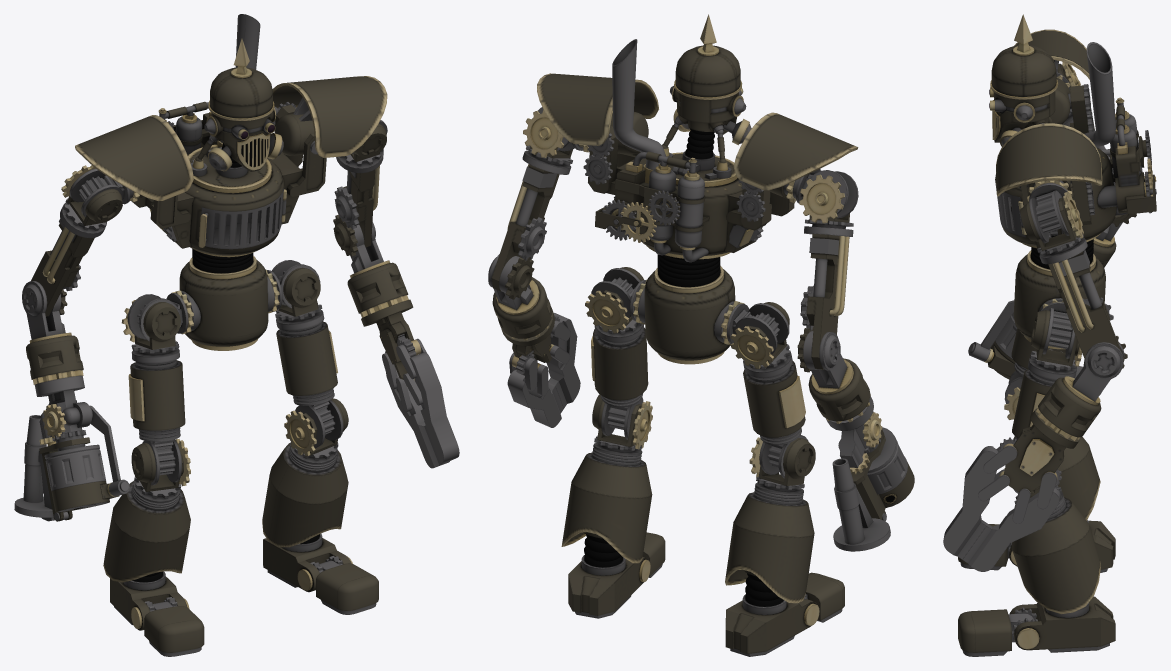
Rendered from steampunk_robot.glb.
3 views of the same model, side by side, from view 1: azimuth 30°, elevation 25°; view 2: azimuth 150°, elevation 25°; view 3: azimuth 270°, elevation 25° (orthographic). The views are drawn at different scales.
Parts seen in each view (by area): view 1: Body, LegR, Object_158, LegL; view 2: Body, LegL, LegR, Object_158; view 3: Body, LegR, Object_158, LegL.
Boxes of the visible parts, x1=… form: Body: x1=22, y1=14, x2=408, y2=421; LegR: x1=262, y1=336, x2=378, y2=614; Object_158: x1=14, y1=299, x2=459, y2=521; LegL: x1=103, y1=378, x2=204, y2=656; Body: x1=488, y1=14, x2=870, y2=428; LegL: x1=725, y1=382, x2=844, y2=656; LegR: x1=561, y1=343, x2=665, y2=618; Object_158: x1=501, y1=307, x2=914, y2=551; Body: x1=989, y1=14, x2=1156, y2=441; LegR: x1=958, y1=389, x2=1115, y2=656; Object_158: x1=943, y1=300, x2=1109, y2=571; LegL: x1=958, y1=328, x2=1115, y2=572.
Bounding box in the file's own units: 1.13 × 1.62 × 0.5312.
Materials: 2 (2 with a texture image).
